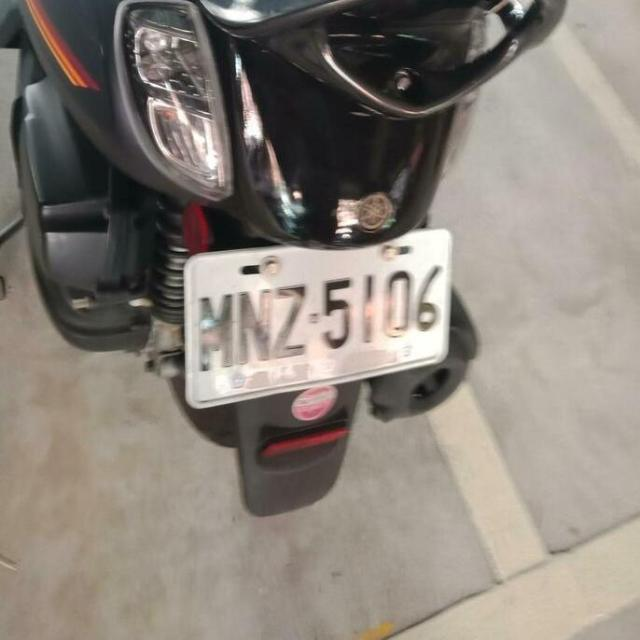W: (166, 218, 468, 414)
